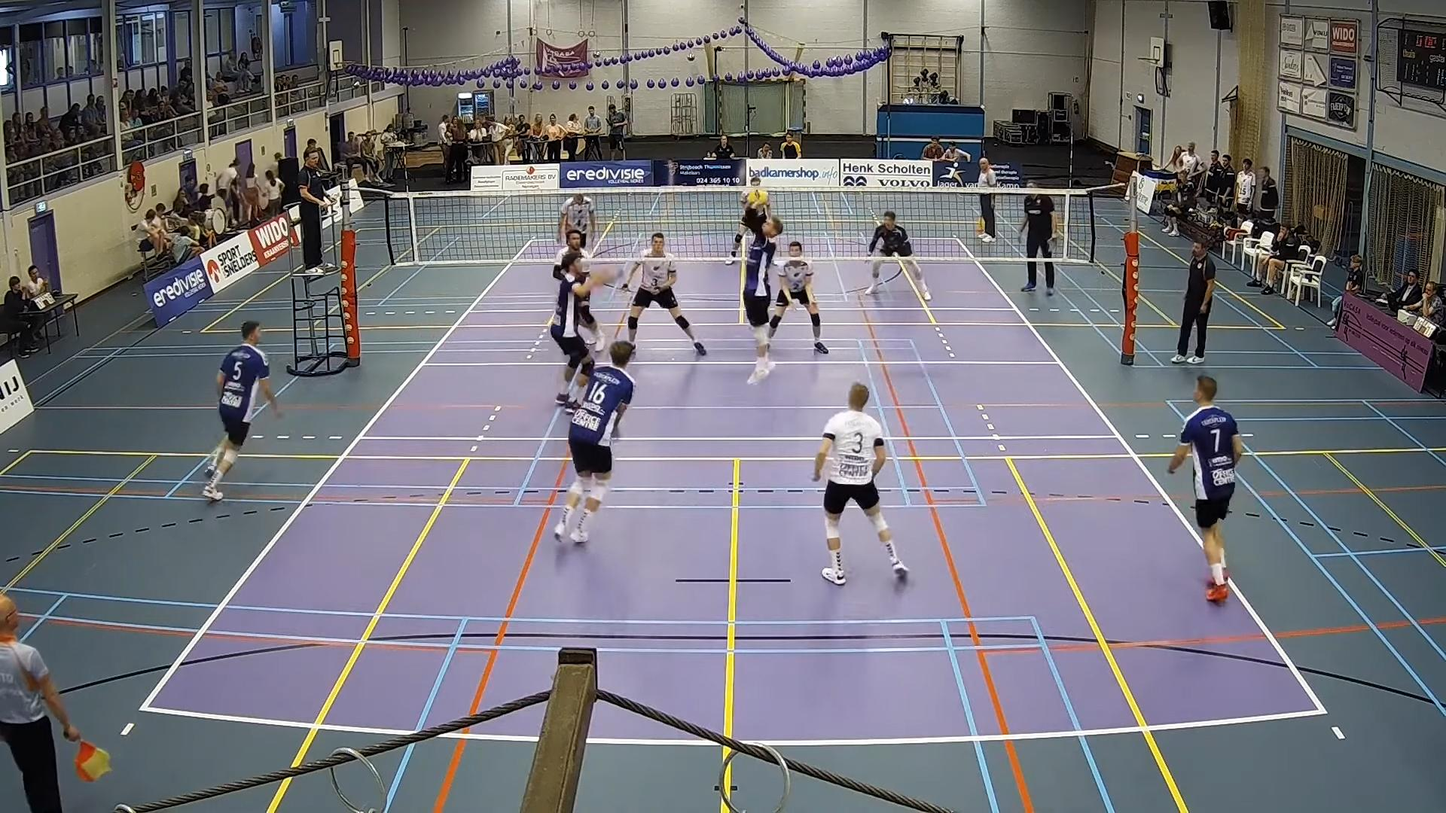Player: (813, 383, 908, 584), (1168, 376, 1243, 601), (554, 342, 634, 543), (203, 321, 279, 501), (627, 233, 706, 355), (550, 251, 605, 411), (769, 241, 828, 353), (865, 211, 931, 300), (728, 175, 770, 263), (558, 193, 596, 247), (553, 229, 592, 279)
Set: (737, 200, 793, 383)
ball: (744, 190, 769, 205)
